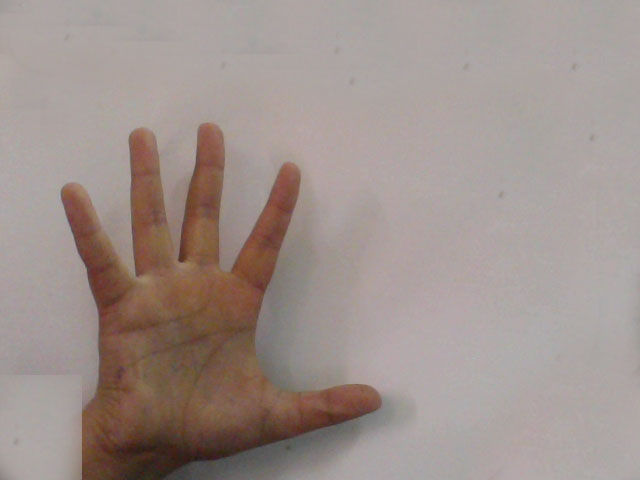hand: (48, 112, 387, 445)
